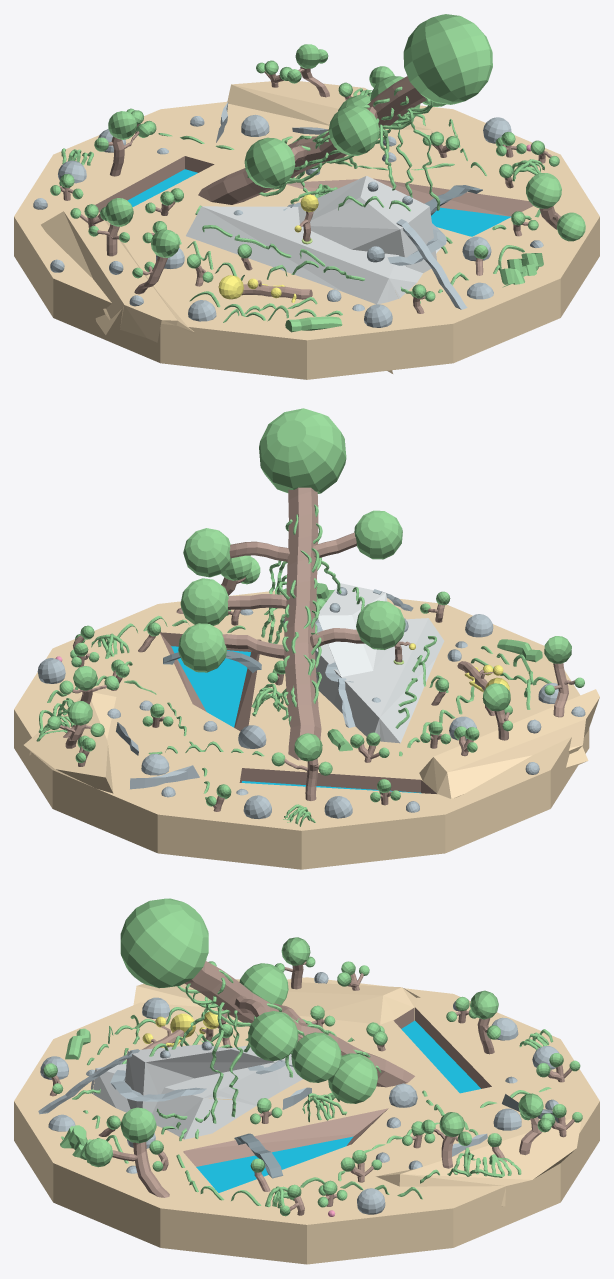
File: Island3-fbx.fbx
3 renders of one model, top to bottom at view 1: azimuth 30°, elevation 25°; view 2: azimuth 150°, elevation 25°; view 3: azimuth 270°, elevation 25°, orthographic.
Visible parts, largest first — view 1: mesh848349083, mesh234647740, mesh440218312, mesh1915784330, mesh811399109, mesh1712419774, mesh338651967, mesh248739470, mesh748509293, mesh1931682622, mesh1152158325, mesh1249463173 (+13 smaller); view 2: mesh848349083, mesh440218312, mesh234647740, mesh811399109, mesh1326693537, mesh1915784330, mesh102459757, mesh810480189, mesh1792948727, mesh1684127829, mesh1322581241, mesh573204606 (+6 smaller); view 3: mesh848349083, mesh234647740, mesh440218312, mesh102459757, mesh810480189, mesh1326693537, mesh811399109, mesh338651967, mesh1617666880, mesh1383328701, mesh2105695159, mesh1712419774 (+12 smaller).
Boxes of the visible parts, x1,y1,x2,y2 form: mesh848349083: (14, 80, 599, 379); mesh234647740: (403, 14, 492, 104); mesh440218312: (198, 76, 426, 204); mesh1915784330: (328, 105, 379, 155); mesh811399109: (244, 137, 295, 188); mesh1712419774: (396, 219, 467, 309); mesh338651967: (526, 173, 561, 208); mesh248739470: (499, 253, 543, 287); mesh748509293: (259, 97, 430, 196); mesh1931682622: (285, 316, 342, 332); mesh1152158325: (557, 212, 585, 241); mesh1249463173: (104, 198, 133, 226); mesh848349083: (14, 583, 599, 869); mesh440218312: (284, 487, 321, 760); mesh234647740: (259, 408, 346, 493); mesh811399109: (356, 600, 405, 649); mesh1326693537: (178, 623, 227, 672); mesh1915784330: (354, 510, 402, 559); mesh102459757: (183, 528, 231, 577); mesh810480189: (180, 578, 228, 625); mesh1792948727: (222, 634, 284, 658); mesh1684127829: (229, 541, 289, 561); mesh1322581241: (227, 594, 286, 609); mesh573204606: (130, 765, 199, 789); mesh848349083: (14, 977, 599, 1264); mesh234647740: (120, 898, 208, 988); mesh440218312: (184, 961, 414, 1087); mesh102459757: (248, 1011, 298, 1061); mesh810480189: (291, 1032, 341, 1082); mesh1326693537: (328, 1053, 377, 1103); mesh811399109: (239, 963, 288, 1005); mesh338651967: (120, 1107, 156, 1143); mesh1617666880: (110, 1070, 206, 1101); mesh1383328701: (133, 1142, 169, 1197); mesh2105695159: (234, 1133, 283, 1178); mesh1712419774: (38, 1049, 139, 1114).
Size of the model in its own units: 161 by 96.75 by 161.
